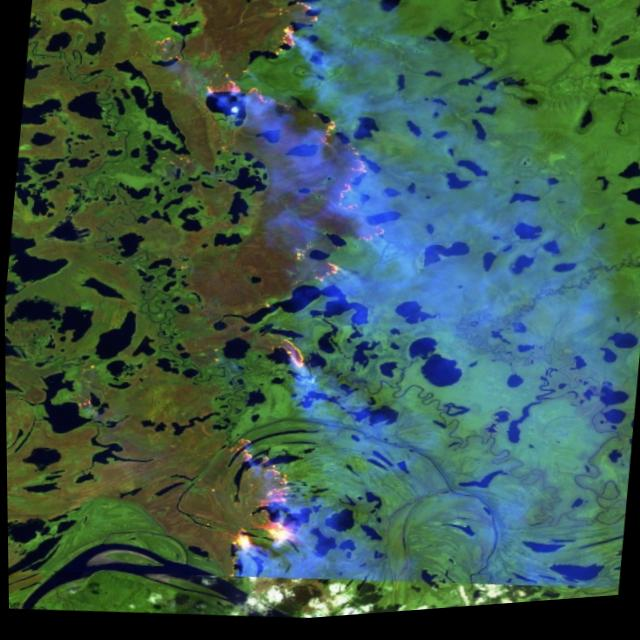fire: (140, 0, 430, 632)
